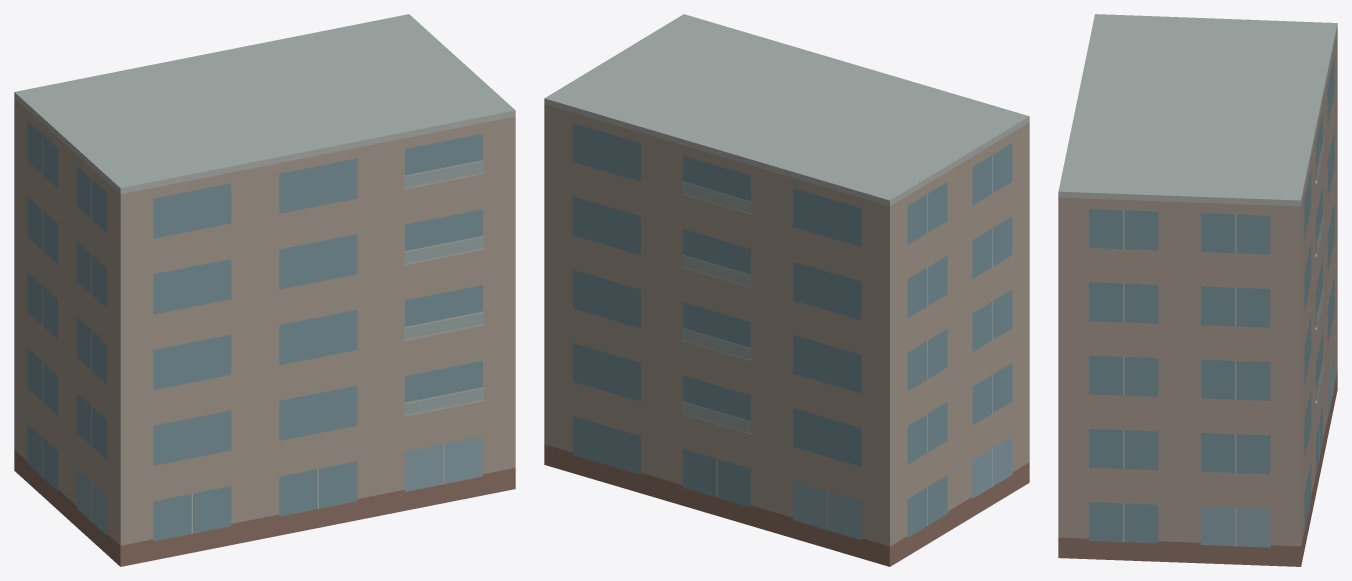
Rendered from residential-070d6118-b045-454b-8643-e21ee4300102.glb.
3 renders of one model, left to right at view 1: azimuth 30°, elevation 25°; view 2: azimuth 150°, elevation 25°; view 3: azimuth 270°, elevation 25°, orthographic. The views are drawn at different scales.
Visible parts, largest first — view 1: residential-070d6118-b045-454b-8643-e21ee4300102.tmp; view 2: residential-070d6118-b045-454b-8643-e21ee4300102.tmp; view 3: residential-070d6118-b045-454b-8643-e21ee4300102.tmp.
Boxes of the visible parts, box(x1,y1,x2,y2) form: residential-070d6118-b045-454b-8643-e21ee4300102.tmp: box(14, 14, 515, 566); residential-070d6118-b045-454b-8643-e21ee4300102.tmp: box(544, 14, 1029, 566); residential-070d6118-b045-454b-8643-e21ee4300102.tmp: box(1058, 14, 1337, 566).
Bounding box in the file's own units: 16.66 × 15.25 × 10.54.
